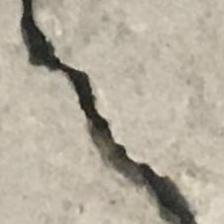Crack: (8, 0, 200, 224)
